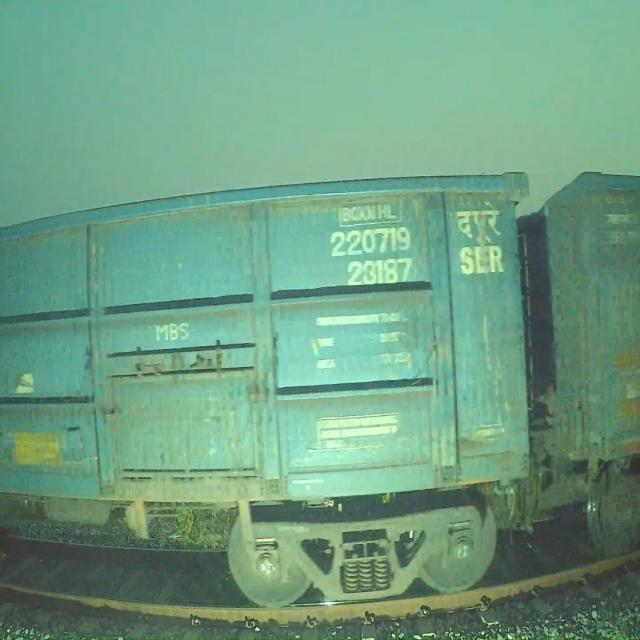WAgon-uic: (0, 162, 536, 617), (475, 165, 640, 562)
uic: (327, 219, 422, 289)
